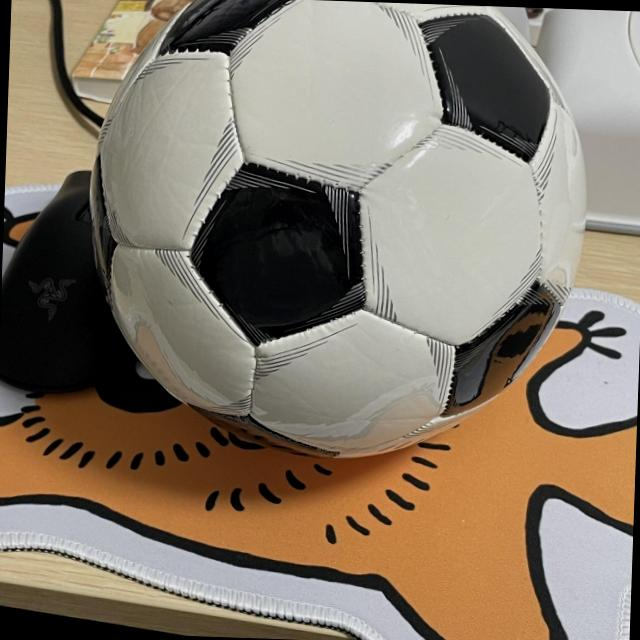Soccer Ball: (81, 0, 592, 466)
